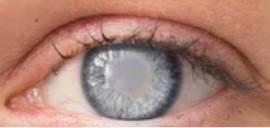eye: (82, 41, 182, 120)
